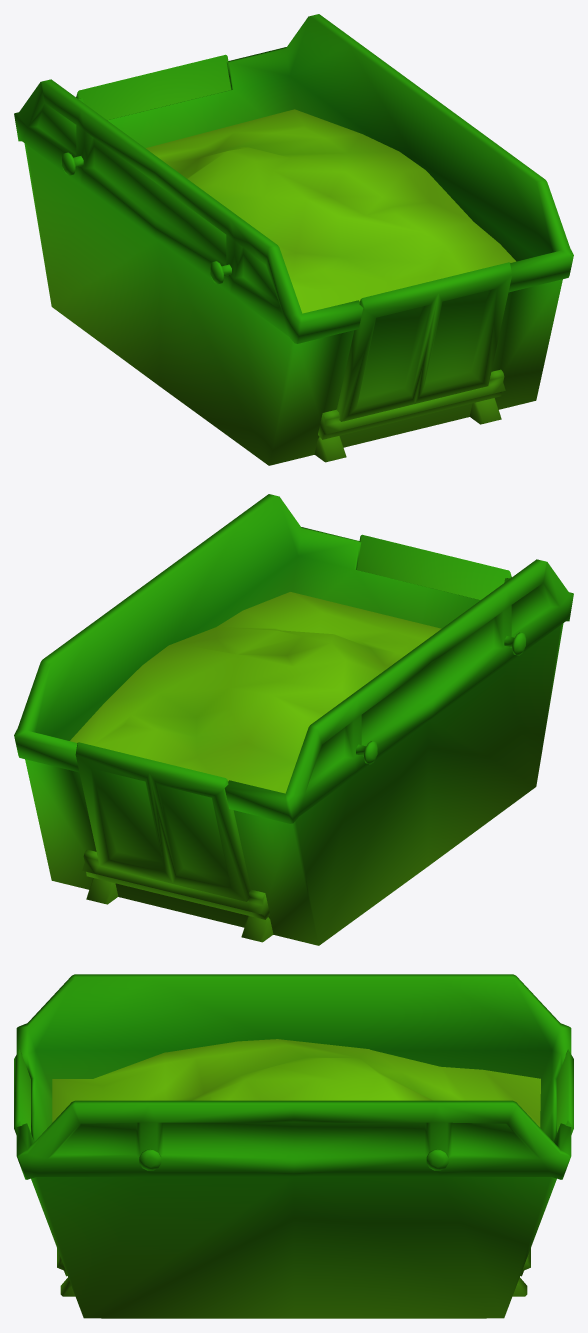
File: SkipBlueNight.glb
3 renders of one model, top to bottom at view 1: azimuth 30°, elevation 25°; view 2: azimuth 150°, elevation 25°; view 3: azimuth 270°, elevation 25°, orthographic. The views are drawn at different scales.
Parts seen in each view (by area): view 1: SkipBlueNight; view 2: SkipBlueNight; view 3: SkipBlueNight.
Part boxes in pixels (x1,y1,x2,y2): SkipBlueNight: [14, 14, 573, 465]; SkipBlueNight: [14, 494, 573, 945]; SkipBlueNight: [14, 974, 573, 1318].
Bounding box in the file's own units: 3.34 × 2.3 × 5.4.
2 materials, 2 textured.
